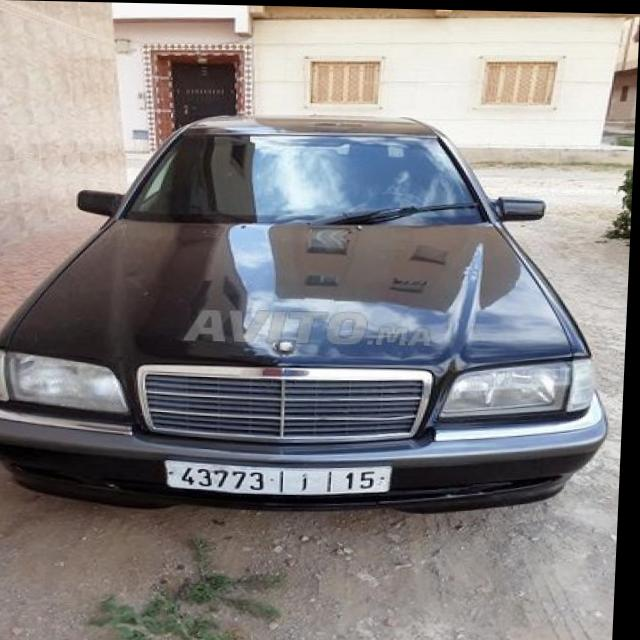License-Plate: (169, 461, 396, 494)
